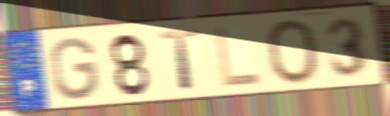3: (323, 16, 368, 80)
8: (108, 32, 151, 97)
G: (49, 35, 100, 102)
L: (214, 24, 264, 90)
O: (264, 17, 322, 86)
T: (158, 28, 203, 92)
